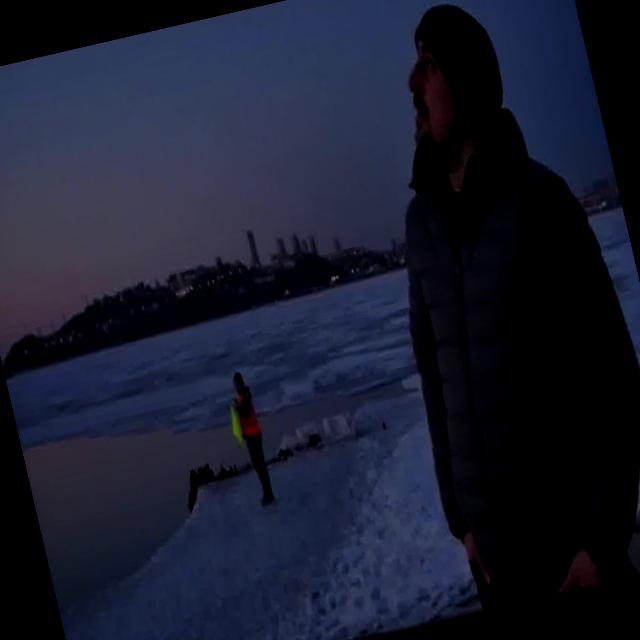vest: (232, 389, 263, 440), (225, 397, 246, 443)
